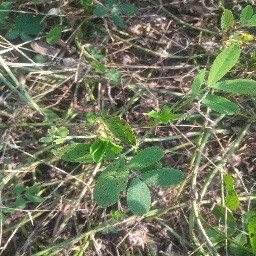GroundNut_Leaf: (93, 156, 126, 208), (208, 44, 244, 79), (104, 116, 137, 146), (127, 144, 165, 168), (199, 95, 240, 117), (52, 141, 90, 164), (127, 184, 152, 215), (143, 167, 187, 184), (208, 80, 256, 94), (226, 187, 239, 213), (222, 7, 233, 31)
